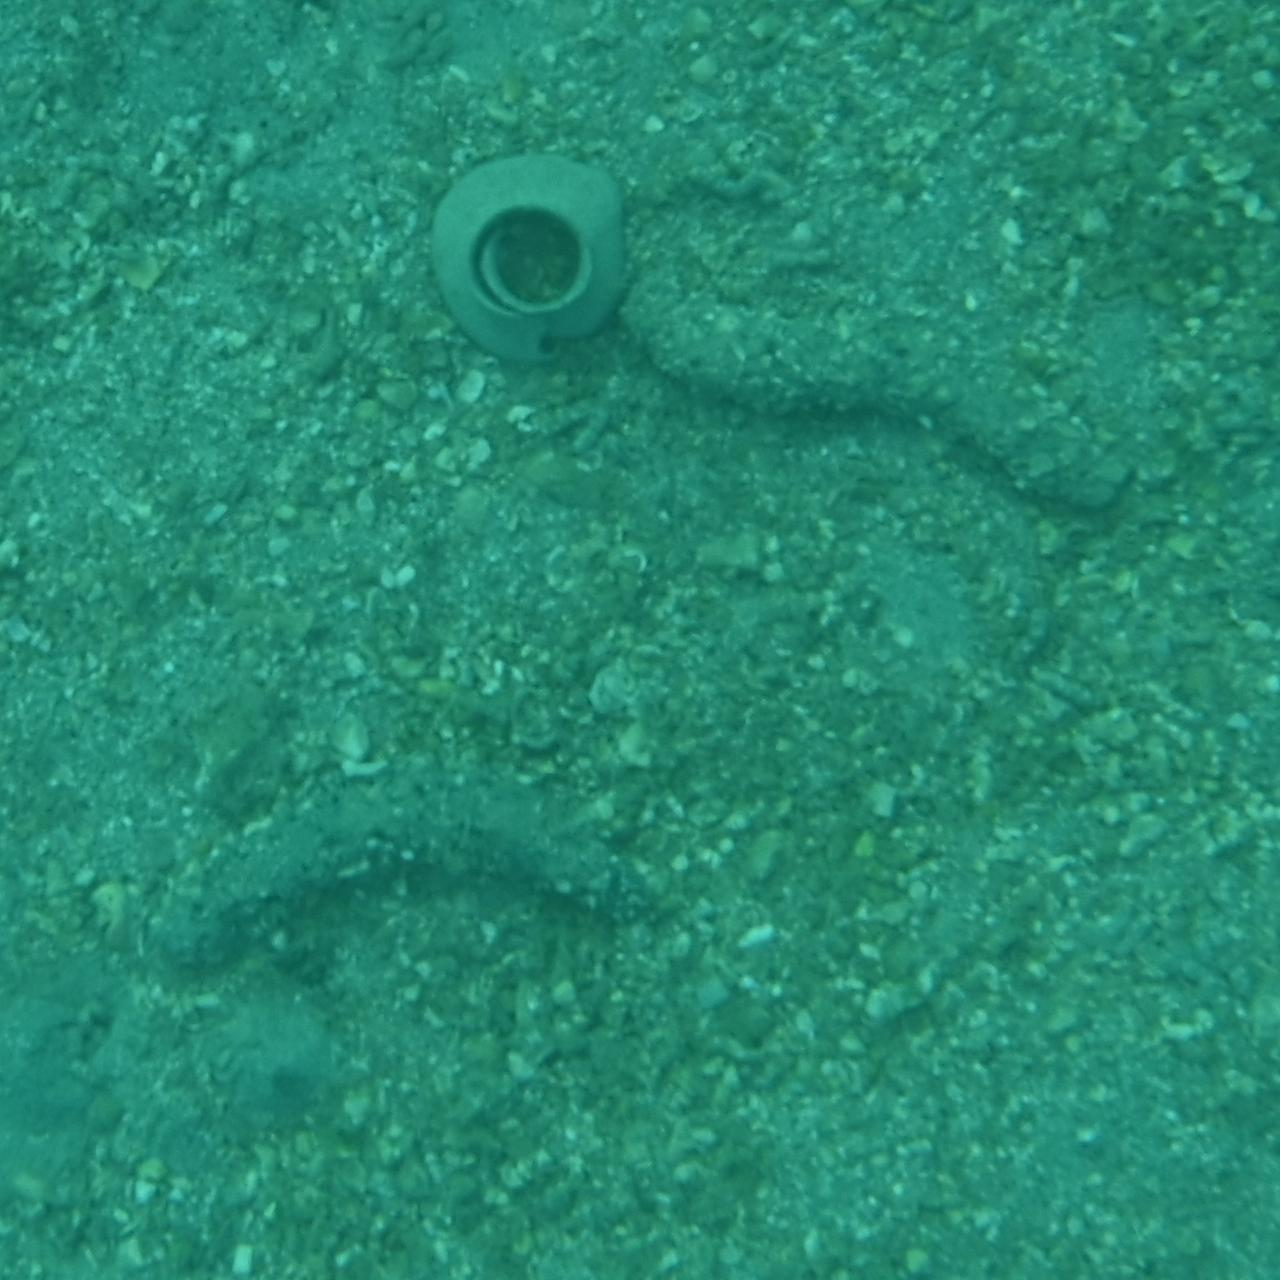Holothuria tubulosa: (633, 260, 1163, 564), (104, 772, 661, 964)
